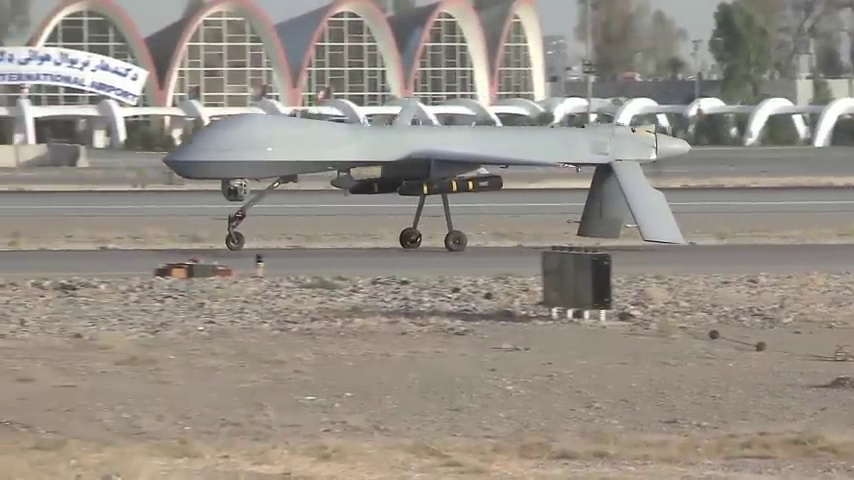military drone: (161, 95, 692, 251)
